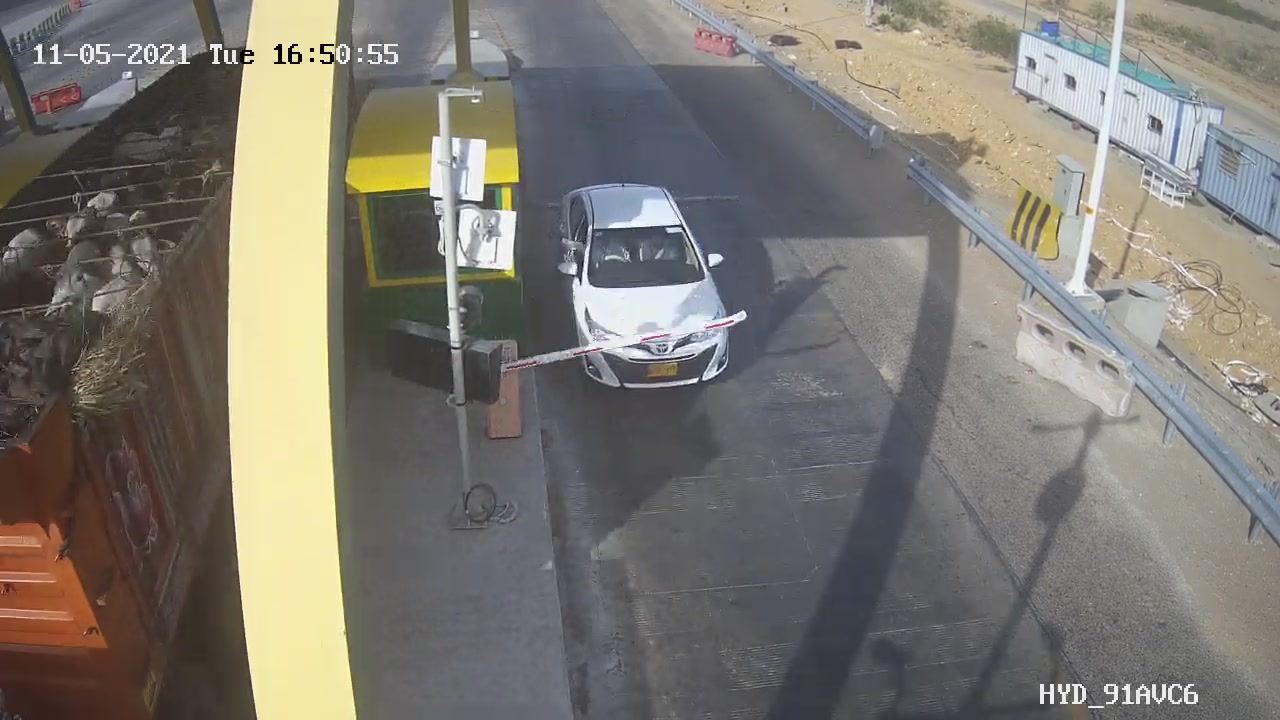F1: (546, 162, 759, 409)
